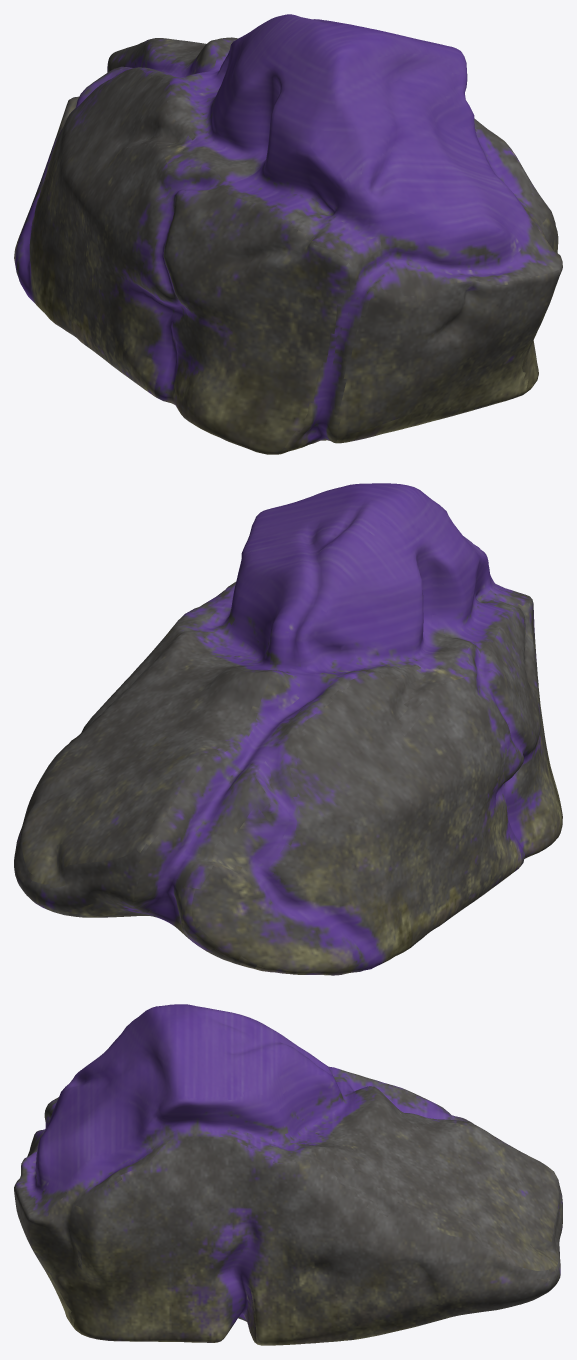
The model's file is GemRock.fbx.
3 views of the same model, one above another, from view 1: azimuth 30°, elevation 25°; view 2: azimuth 150°, elevation 25°; view 3: azimuth 270°, elevation 25° (orthographic). The views are drawn at different scales.
Visible parts, largest first — view 1: RockGem; view 2: RockGem; view 3: RockGem.
Boxes of the visible parts, x1,y1,x2,y2 form: RockGem: (14, 14, 562, 454); RockGem: (14, 483, 562, 975); RockGem: (14, 1004, 562, 1345).
Bounding box in the file's own units: 2.19 × 2.03 × 3.62.
